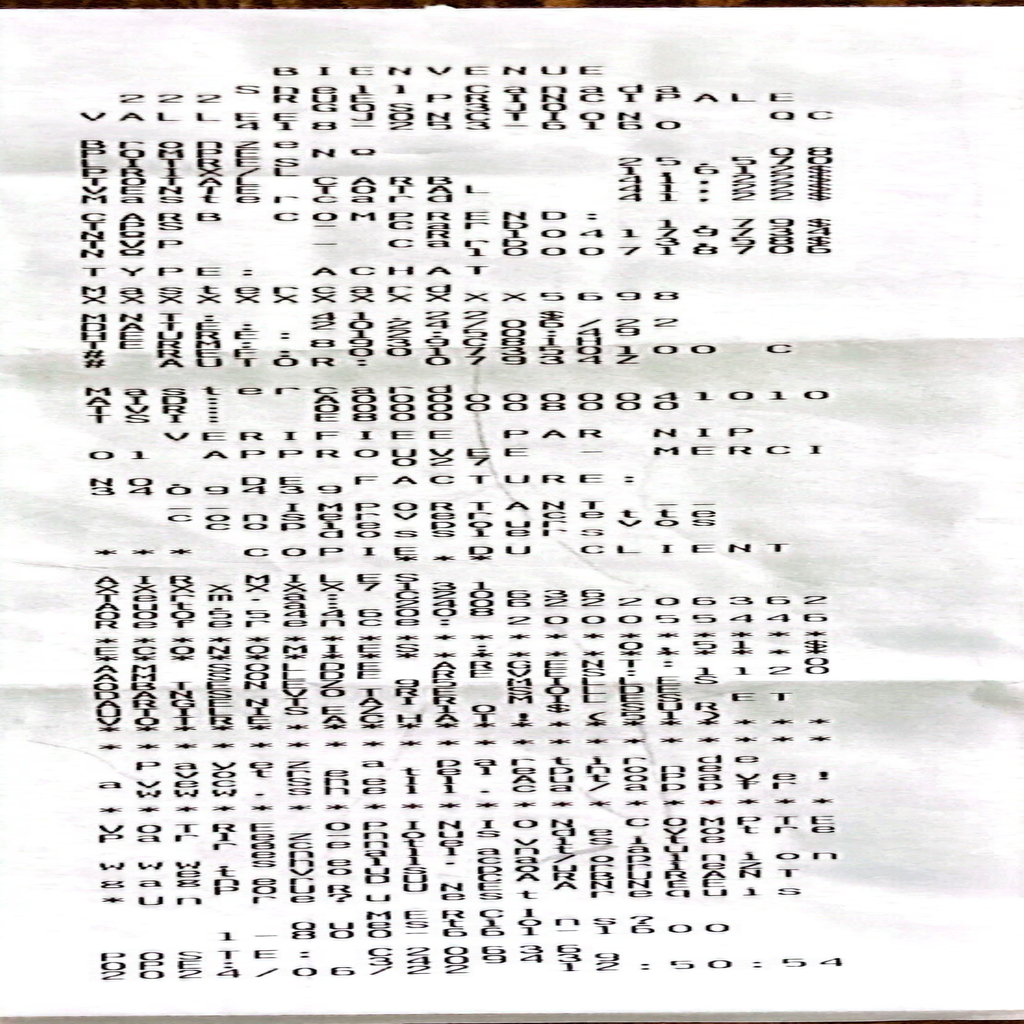recipt: (0, 6, 1022, 1014)
